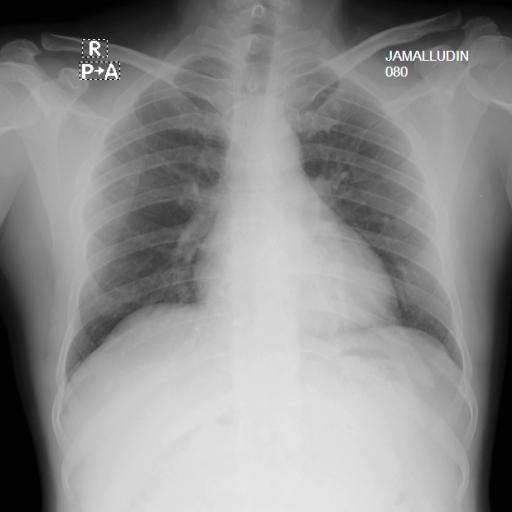kardiomegali: (59, 37, 473, 411)
